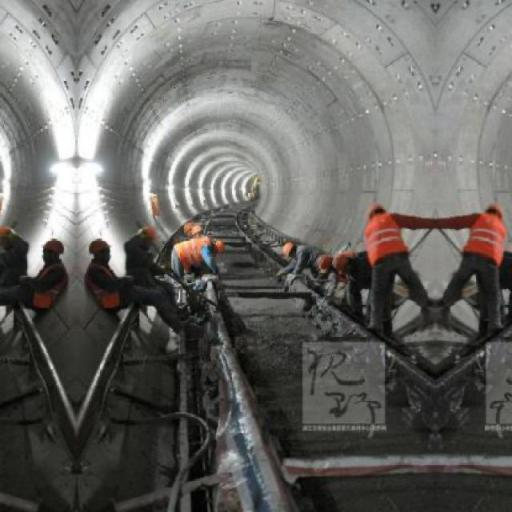helmet: (84, 235, 114, 257), (363, 197, 392, 219), (40, 235, 68, 257), (481, 198, 504, 216), (189, 223, 205, 236)
vest: (359, 212, 415, 270), (455, 214, 510, 268), (28, 260, 72, 314), (81, 260, 124, 312), (172, 236, 212, 271)
